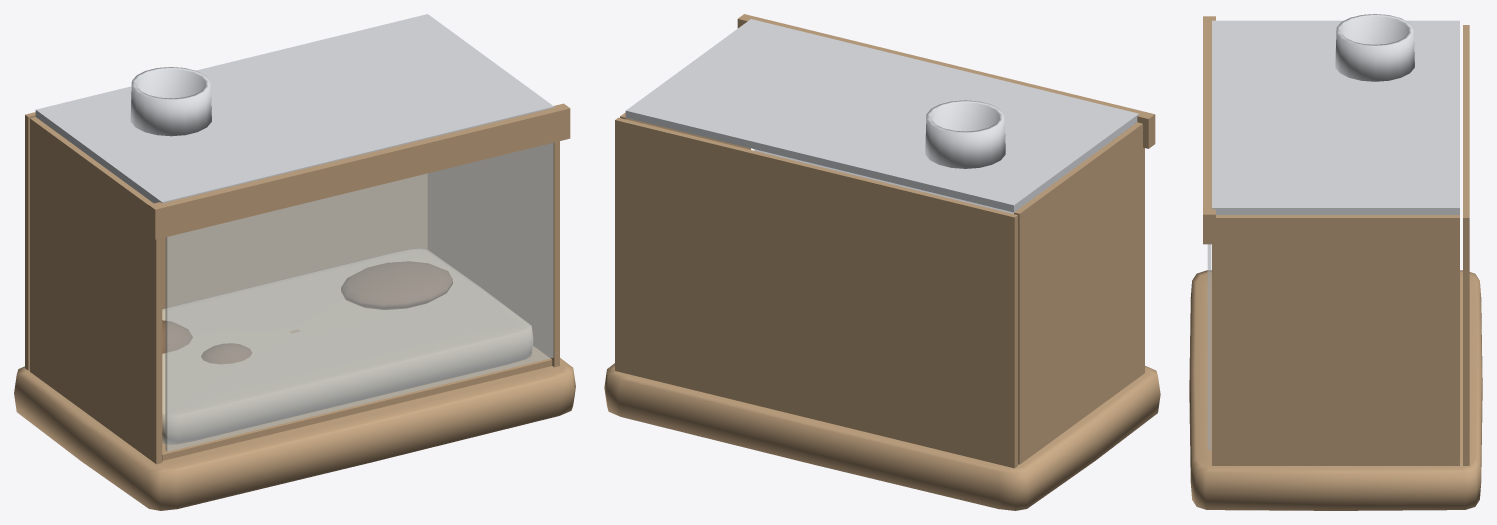
File: pets-and-companions-hd-vivarium-86bb6cea__28174.glb
3 renders of one model, left to right at view 1: azimuth 30°, elevation 25°; view 2: azimuth 150°, elevation 25°; view 3: azimuth 270°, elevation 25°, orthographic. The views are drawn at different scales.
Parts seen in each view (by area): view 1: vivarium; view 2: vivarium; view 3: vivarium.
Boxes of the visible parts, <box> form: vivarium: <box>14,14,575,510</box>; vivarium: <box>604,14,1160,510</box>; vivarium: <box>1189,14,1482,510</box>.
Bounding box in the file's own units: 0.75 × 0.56 × 0.45.
6 materials, 2 textured.
